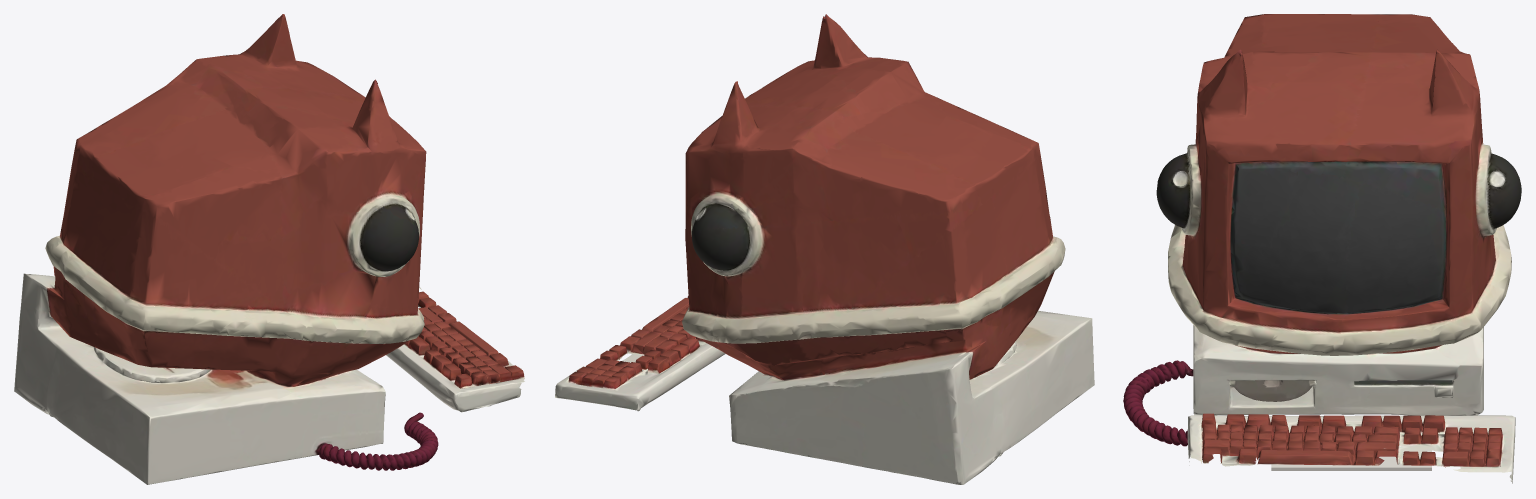
File: retro-computer.glb
3 renders of one model, left to right at view 1: azimuth 30°, elevation 25°; view 2: azimuth 150°, elevation 25°; view 3: azimuth 270°, elevation 25°, orthographic. The views are drawn at different scales.
Visible parts, largest first — view 1: retro_computer; view 2: retro_computer; view 3: retro_computer.
Boxes of the visible parts, x1=… form: retro_computer: x1=14, y1=14, x2=524, y2=484; retro_computer: x1=555, y1=14, x2=1094, y2=484; retro_computer: x1=1123, y1=14, x2=1521, y2=483.
Size of the model in its own units: 0.9252 by 0.7843 by 0.7382.
Materials: 2 (1 with a texture image).
